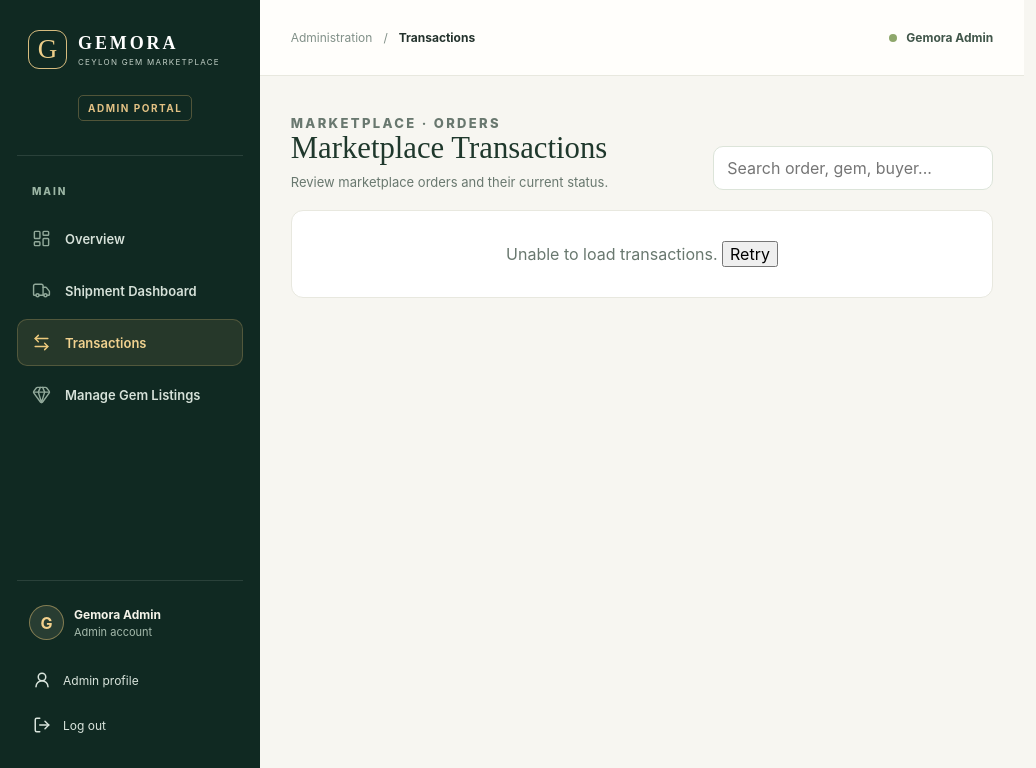
shows an error with a working retry
The width and height of the screenshot is (1036, 768).
Check: the message shows "Unable to load transactions.", box [506, 244, 718, 264]
Click the button "Retry" at (750, 254), box [722, 241, 778, 267]
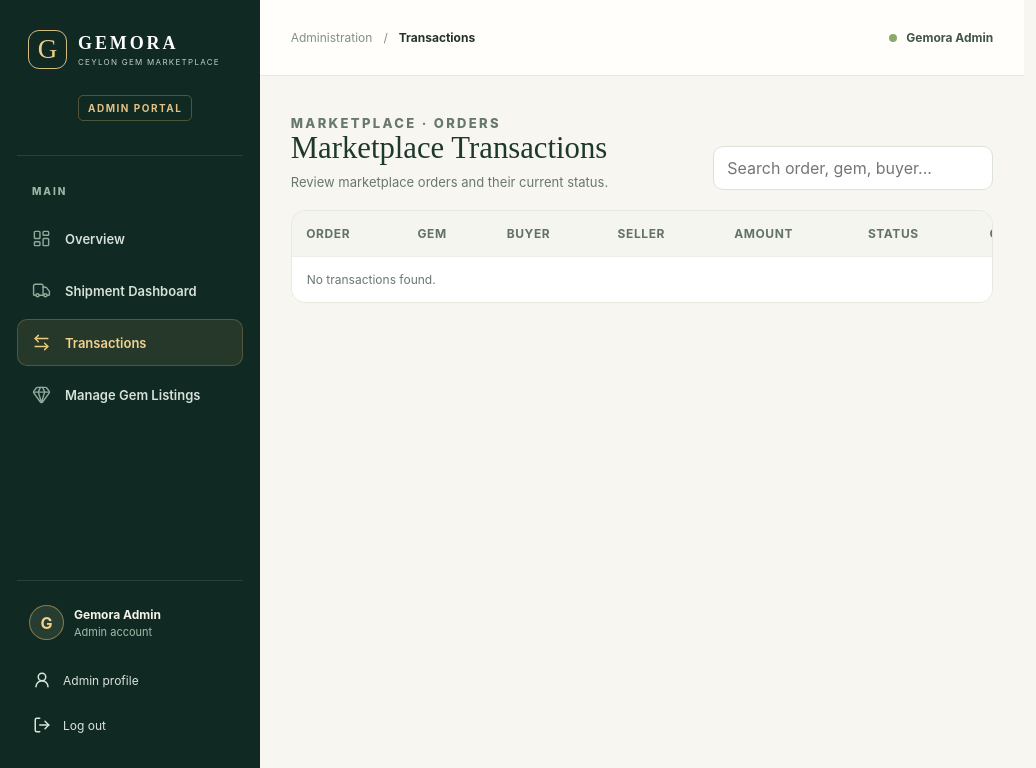
Check: the text "No transactions found." is shown, box [291, 256, 993, 302]
